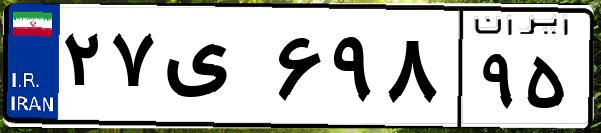2: (57, 26, 110, 100)
5: (525, 38, 570, 115)
6: (270, 28, 330, 110)
7: (110, 28, 158, 98)
8: (385, 28, 445, 110)
9: (330, 28, 385, 110), (475, 38, 525, 113)
ی: (158, 20, 270, 120)
